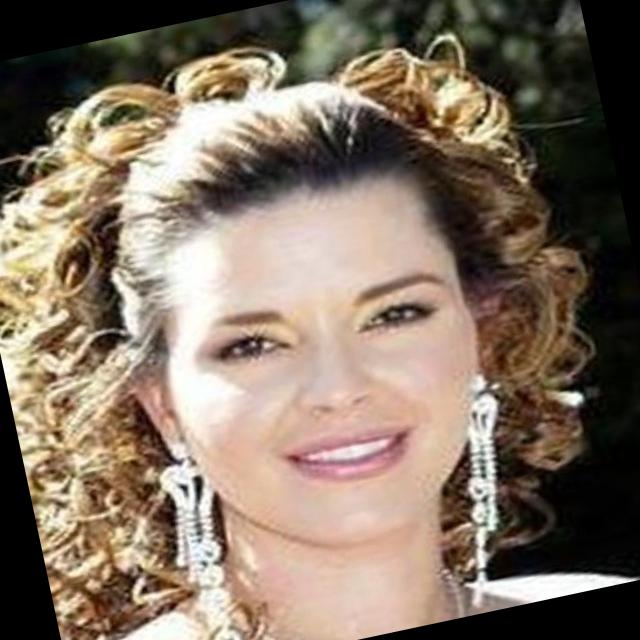bareface: (71, 49, 524, 565)
